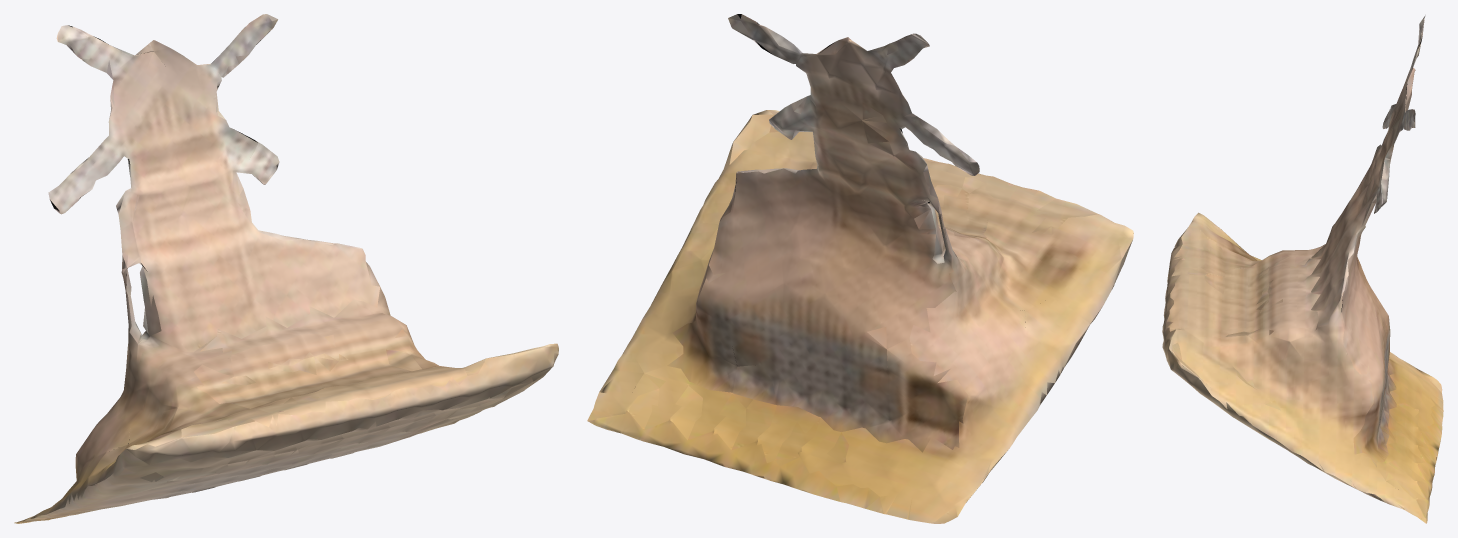
The picture shows the model from 3 angles, left to right: view 1: azimuth 30°, elevation 25°; view 2: azimuth 150°, elevation 25°; view 3: azimuth 270°, elevation 25°; orthographic projection. The views are drawn at different scales.
Parts seen in each view (by area): view 1: world; view 2: world; view 3: world.
Boxes of the visible parts, x1,y1,x2,y2 form: world: (14, 14, 558, 523); world: (587, 14, 1133, 523); world: (1162, 15, 1443, 523).
Size of the model in its own units: 0.405 by 0.4495 by 0.2962.
Materials: 1 (1 with a texture image).
